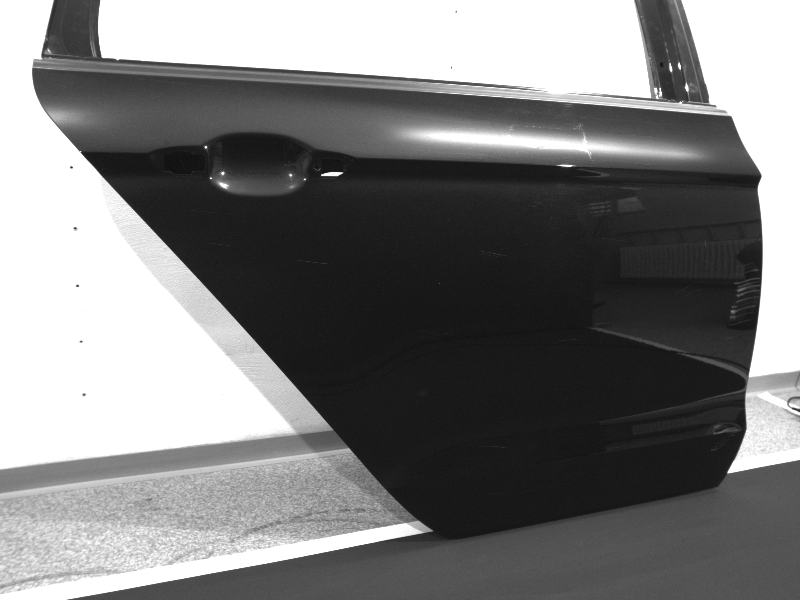scratch: (724, 262, 761, 341), (709, 423, 742, 453), (675, 282, 702, 298), (190, 208, 234, 215), (295, 258, 328, 265), (476, 249, 503, 257), (554, 337, 579, 343), (477, 444, 507, 449), (604, 237, 627, 243), (595, 321, 615, 327), (211, 243, 233, 248), (702, 239, 708, 247)
